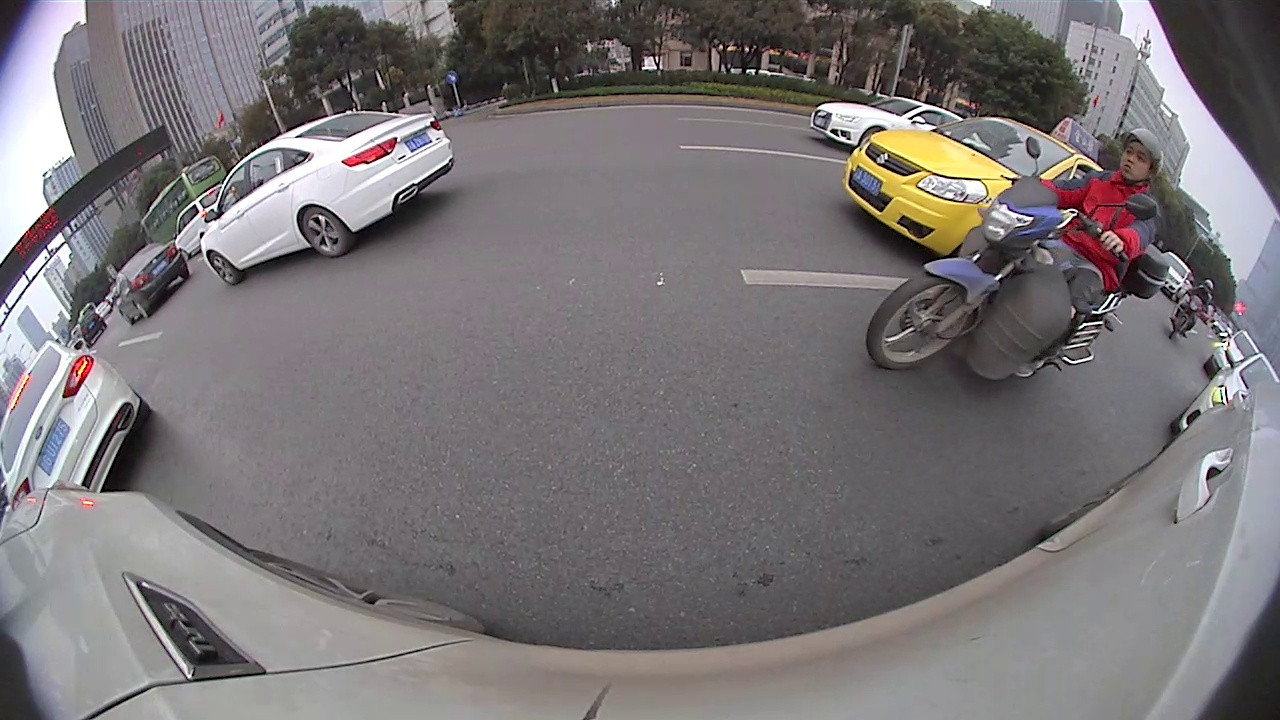bus: (140, 157, 227, 241)
car: (200, 110, 453, 282), (843, 117, 1101, 258), (3, 339, 150, 507), (1173, 355, 1277, 438), (809, 98, 961, 148), (115, 240, 189, 326), (174, 186, 228, 256), (1203, 329, 1262, 376)
front: (862, 269, 976, 369), (208, 251, 238, 283)
rear: (299, 206, 348, 260), (133, 299, 148, 318)
rider: (866, 123, 1168, 380), (1170, 280, 1215, 340)
